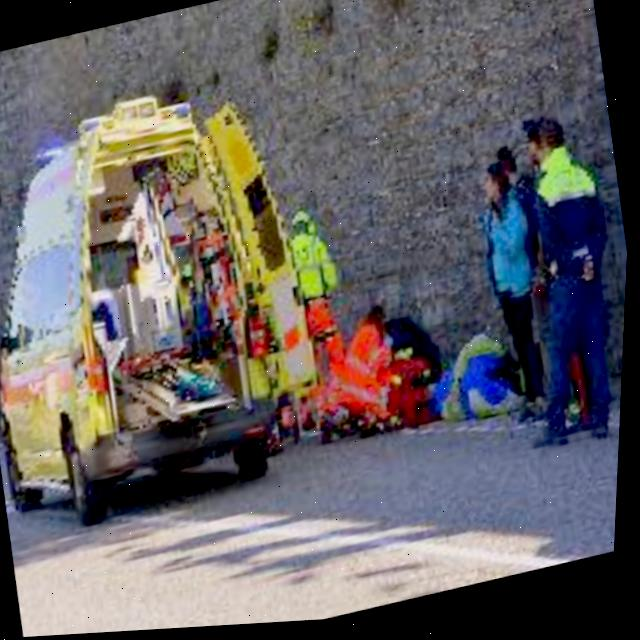emergency: (0, 72, 327, 560)
